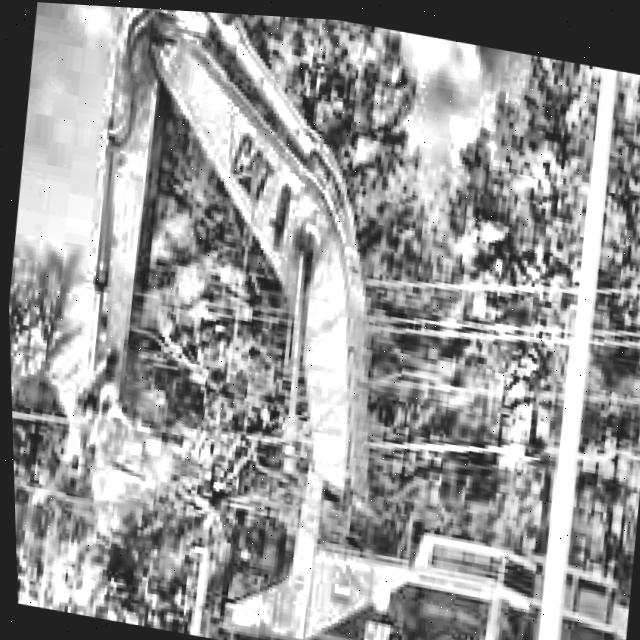excavator: (36, 2, 596, 640)
